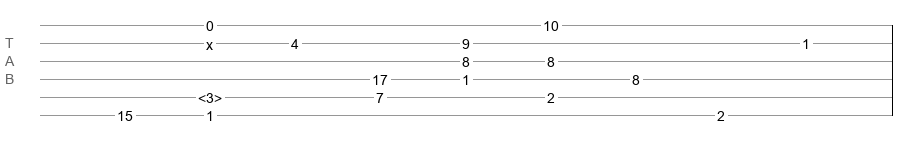0: (206, 18, 214, 28)
1: (206, 108, 214, 118), (462, 72, 470, 82), (802, 36, 810, 46)
10: (543, 18, 559, 28)
15: (117, 108, 133, 118)
17: (372, 72, 388, 82)
2: (547, 90, 555, 100), (717, 108, 725, 118)
4: (291, 36, 299, 46)
7: (376, 90, 384, 100)
8: (462, 54, 470, 64), (547, 54, 555, 64), (632, 72, 640, 82)
9: (462, 36, 470, 46)
harmonic: (198, 90, 222, 100)
x: (206, 37, 213, 45)
